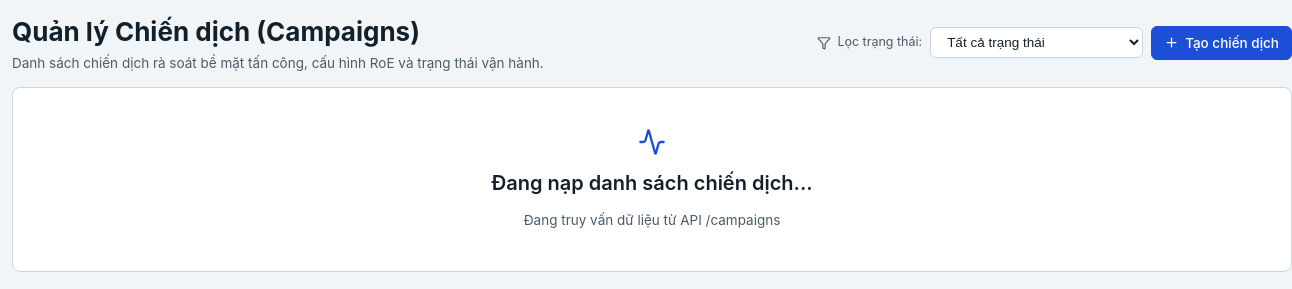
Test case: Ultron UI Reusable Components › navigates from CampaignListScreen Create button without alert()
The width and height of the screenshot is (1292, 289).
Click the link "Tạo chiến dịch": click(1222, 43) [1151,26,1291,60]
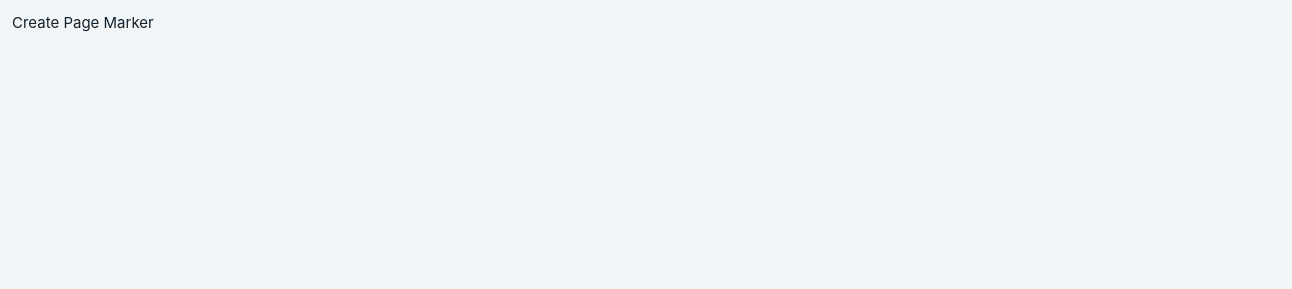
Expected: the text "Create Page Marker" is shown, [12,13,154,32]
